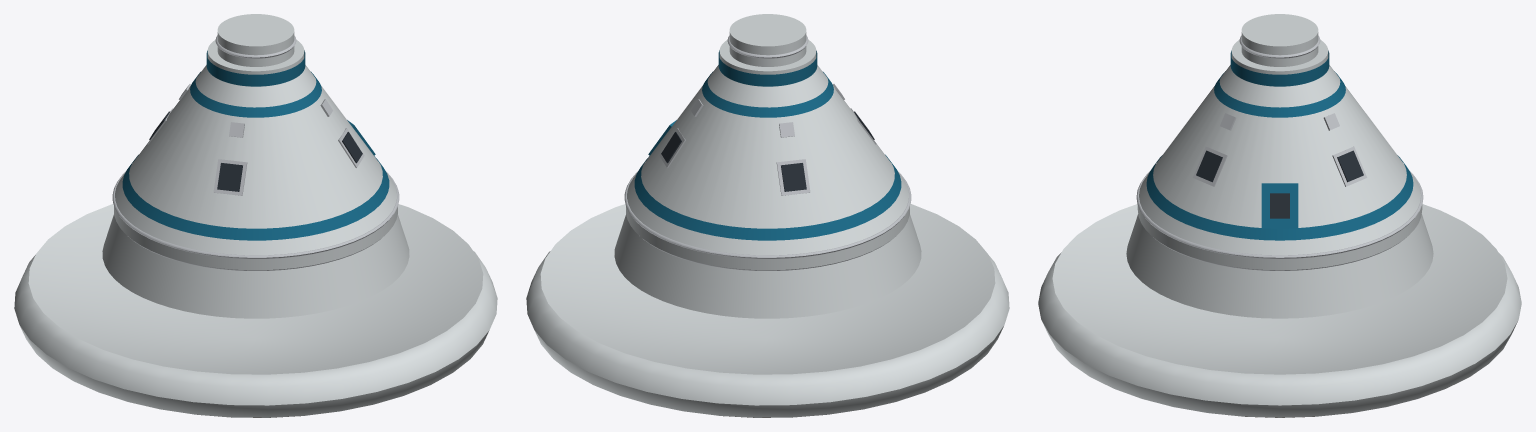
The model's file is tps_inflatable_decelerator.glb.
3 views of the same model, side by side, from view 1: azimuth 30°, elevation 25°; view 2: azimuth 150°, elevation 25°; view 3: azimuth 270°, elevation 25° (orthographic).
Visible parts, largest first — view 1: tps_inflatable_decelerator_mesh; view 2: tps_inflatable_decelerator_mesh; view 3: tps_inflatable_decelerator_mesh.
Part boxes in pixels (bbox=[...]): tps_inflatable_decelerator_mesh: bbox=[14, 14, 497, 417]; tps_inflatable_decelerator_mesh: bbox=[526, 14, 1009, 417]; tps_inflatable_decelerator_mesh: bbox=[1038, 14, 1521, 417].
Bounding box in the file's own units: 8.5 × 7.11 × 8.5.
